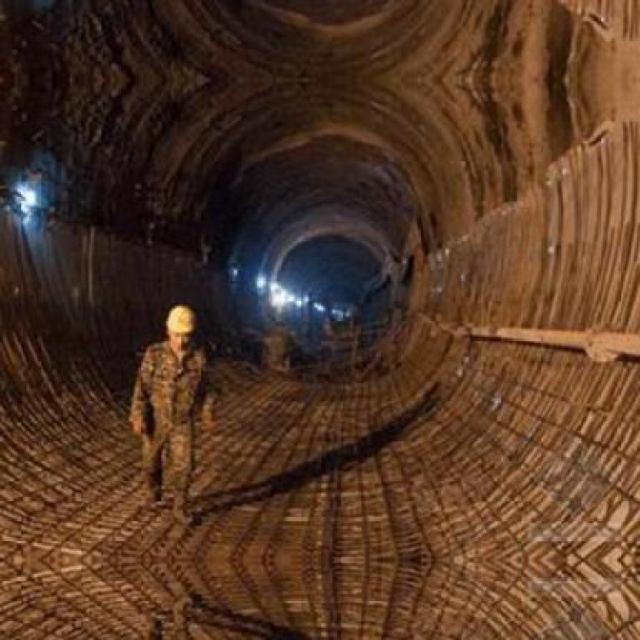helmet: (167, 300, 199, 346)
